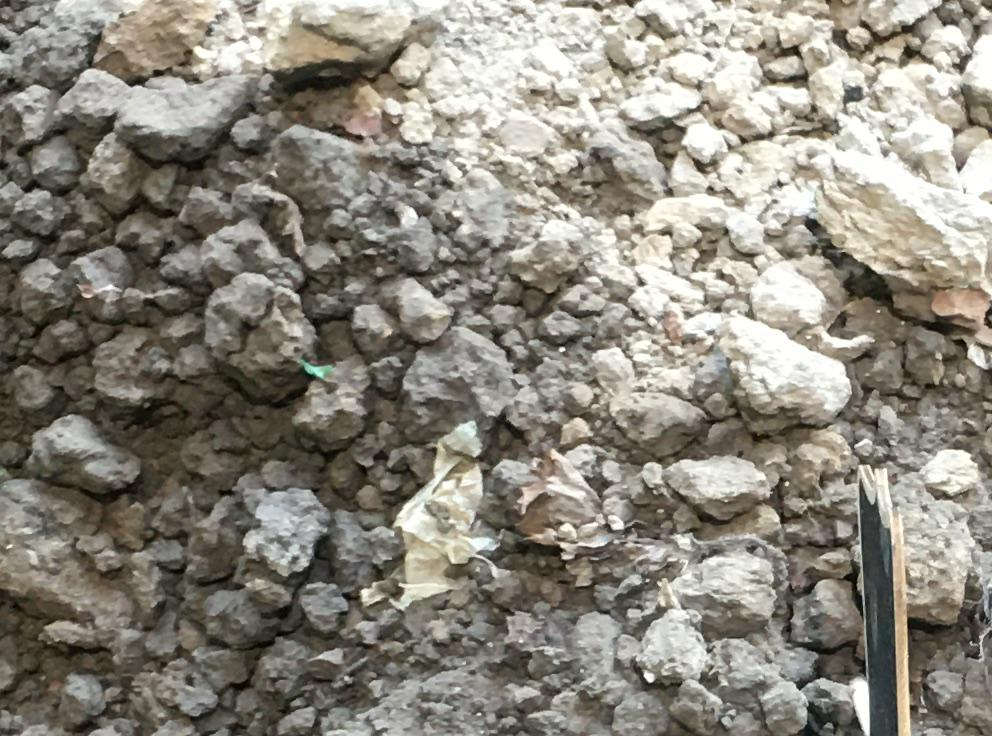block: (815, 144, 991, 297), (713, 310, 852, 433), (260, 2, 447, 83), (198, 273, 308, 402), (398, 325, 503, 449), (113, 85, 258, 156)
